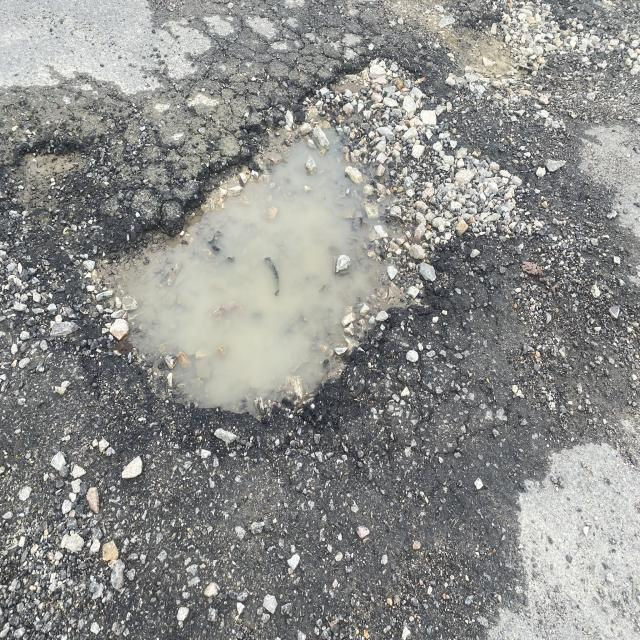Pothole: (56, 28, 574, 453)
